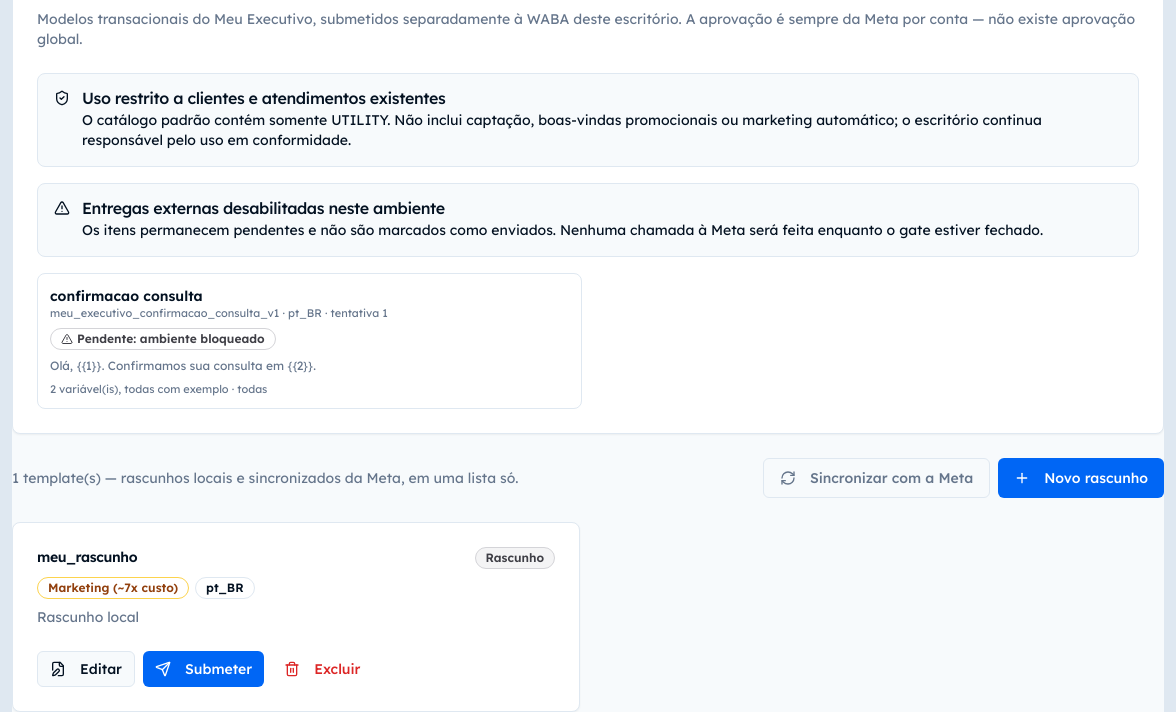
Test: WhatsAppMetaTemplates: estados da lista unificada › mostra o estado externo após submit 200 mesmo quando a origem continua marcada como rascunho
(page scrolled)
Expected: the text "meu_rascunho" is shown, left=37, top=547, right=137, bottom=567
Step 1. Click the button "Submeter" → (204, 669), box left=143, top=651, right=264, bottom=687
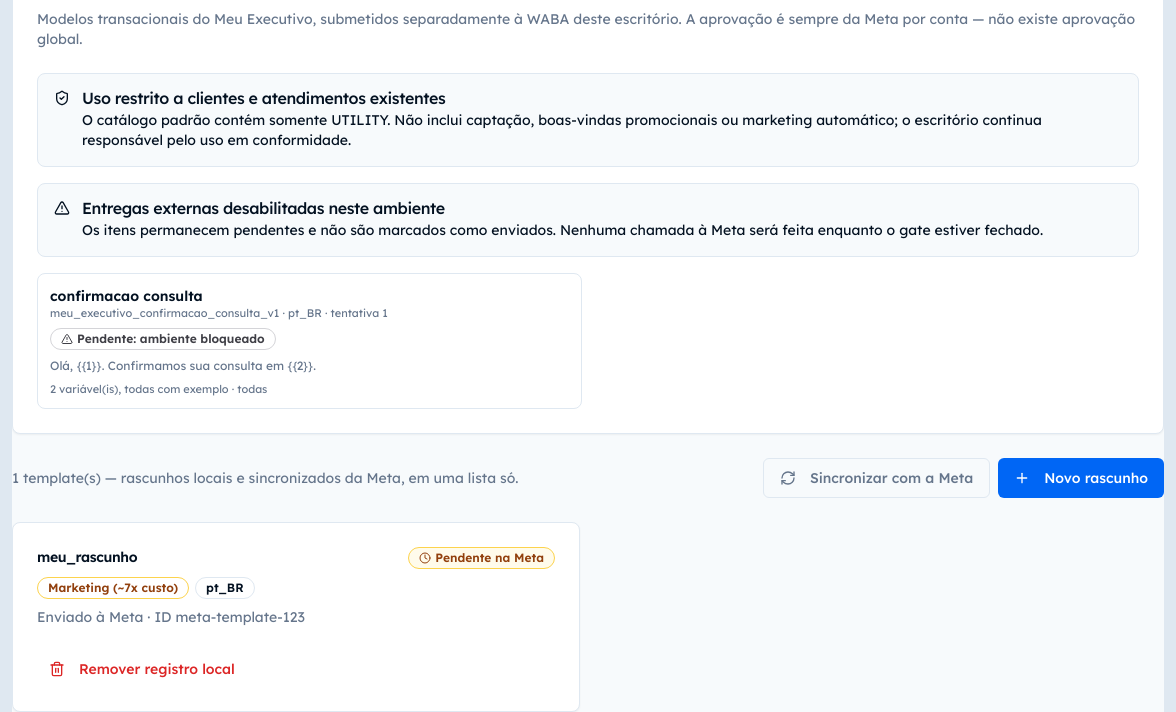
Now the text "Pendente na Meta" is shown, box left=408, top=547, right=555, bottom=569
Now the text "Enviado à Meta · ID meta-template-123" is shown, box left=37, top=608, right=305, bottom=626
Now the text "Rascunho local" is gone
